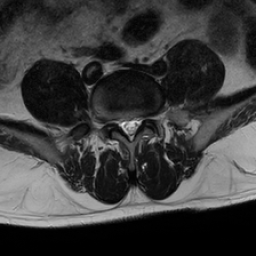CCS_normal: (125, 108, 133, 147)
LFS_severe_stenosis: (142, 106, 152, 128)
LLS_normal: (133, 108, 142, 139)
RFS_severe_stenosis: (107, 108, 116, 132)
RLS_normal: (116, 109, 125, 137)
